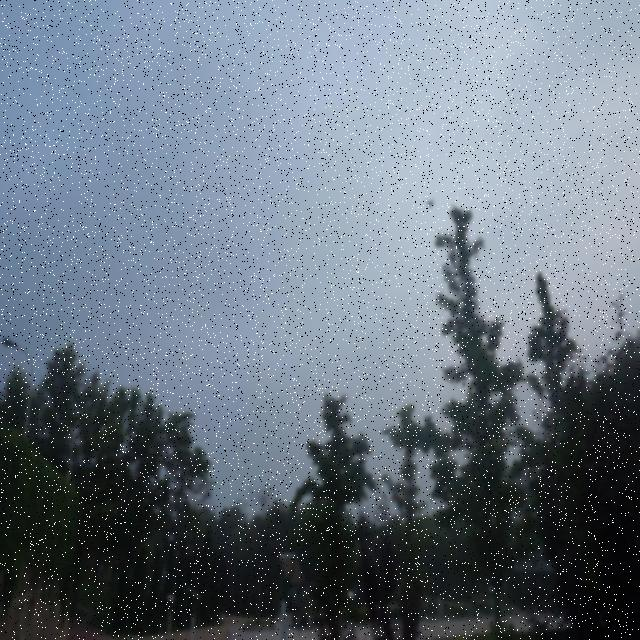UAV: (425, 196, 436, 208)
